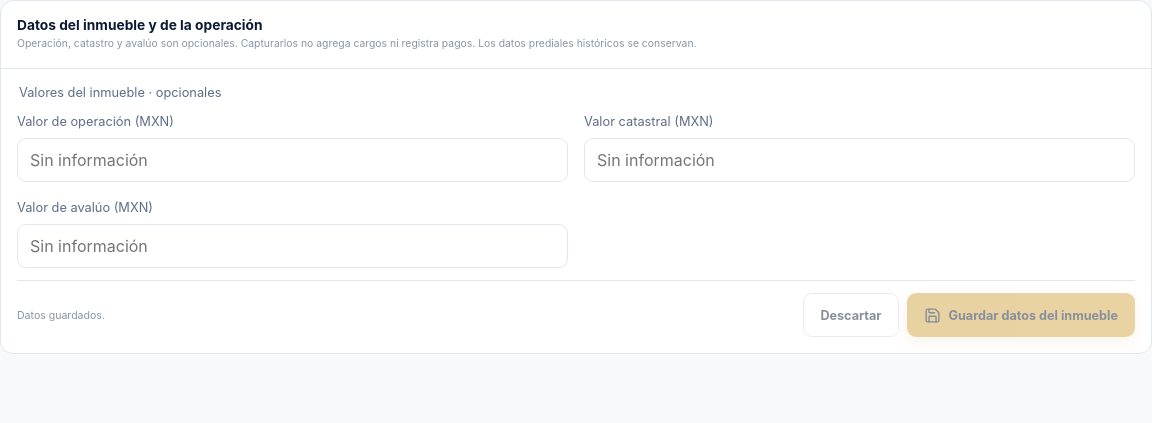
Cotizaciones · tres valores opcionales sin alterar predial histórico › muestra el conflicto del servidor y conserva la captura para revisión
This screenshot has width=1152, height=423.
Type "200" into the number field labelled "Valor de avalúo (MXN)" at (292,246), box top-left (17, 224), bottom-right (568, 268)
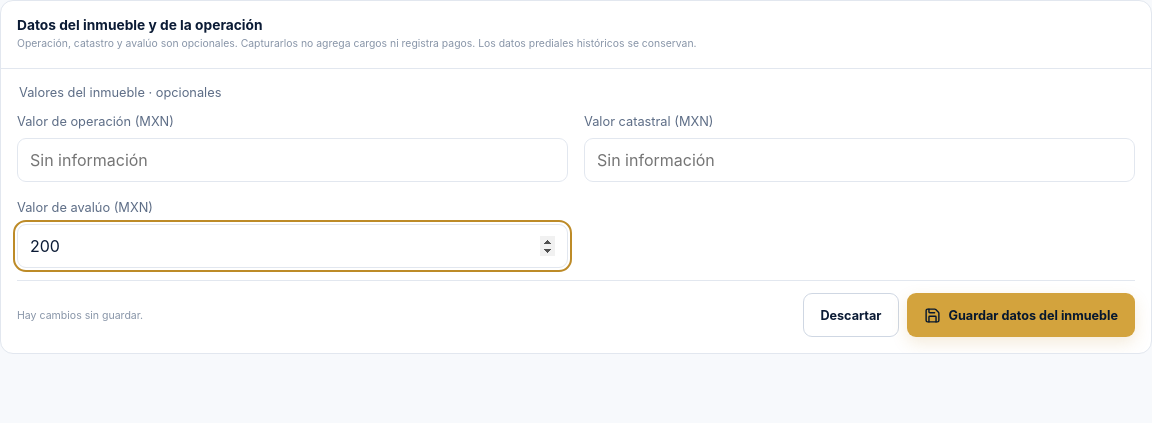
Click the button "Guardar datos del inmueble" at (1021,315), box top-left (906, 293), bottom-right (1135, 337)
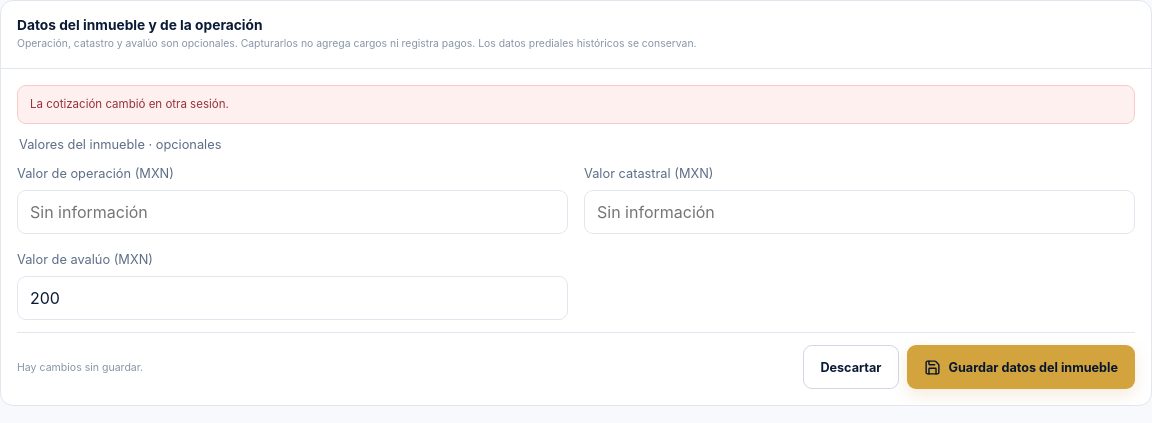
Expected: the message reads "La cotización cambió en otra sesión.", top-left (30, 97), bottom-right (229, 111)
